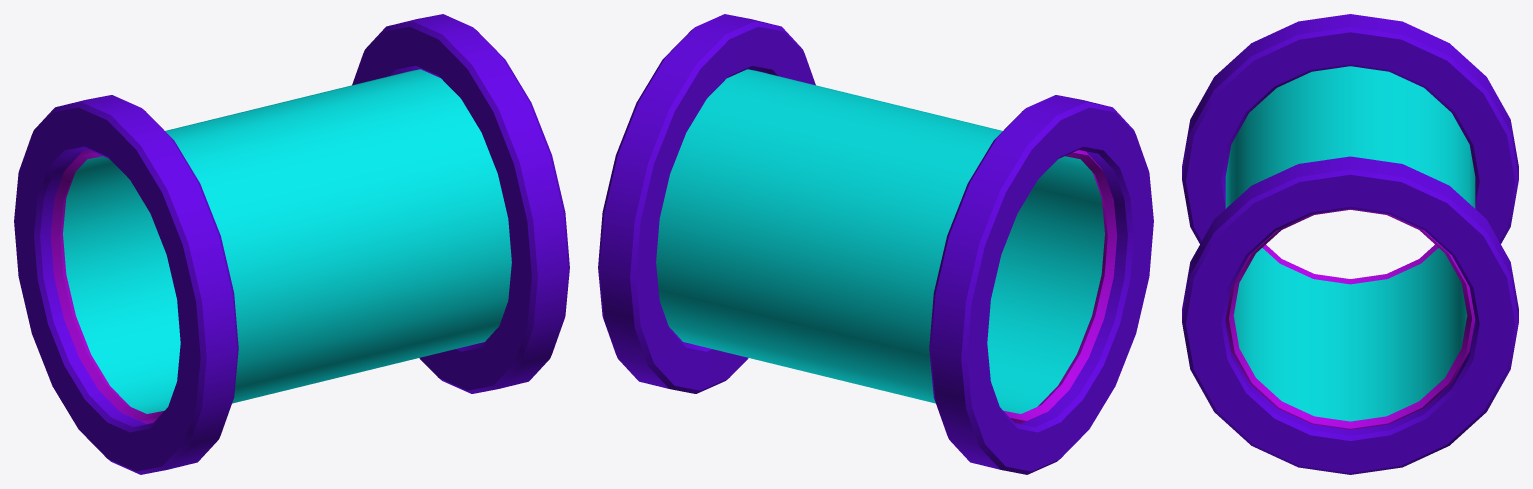
File: Short Straight.fbx
The picture shows the model from 3 angles, left to right: view 1: azimuth 30°, elevation 25°; view 2: azimuth 150°, elevation 25°; view 3: azimuth 270°, elevation 25°; orthographic projection. The views are drawn at different scales.
Visible parts, largest first — view 1: SmartCombine_4; view 2: SmartCombine_4; view 3: SmartCombine_4.
Boxes of the visible parts, x1,y1,x2,y2 form: SmartCombine_4: [14, 14, 569, 474]; SmartCombine_4: [598, 14, 1153, 474]; SmartCombine_4: [1182, 14, 1518, 474].
Size of the model in its own units: 27.88 by 25 by 25.
